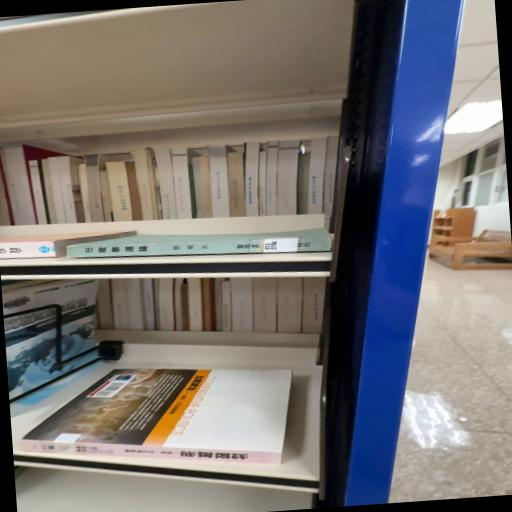flat: (21, 369, 293, 465), (68, 229, 333, 259)
